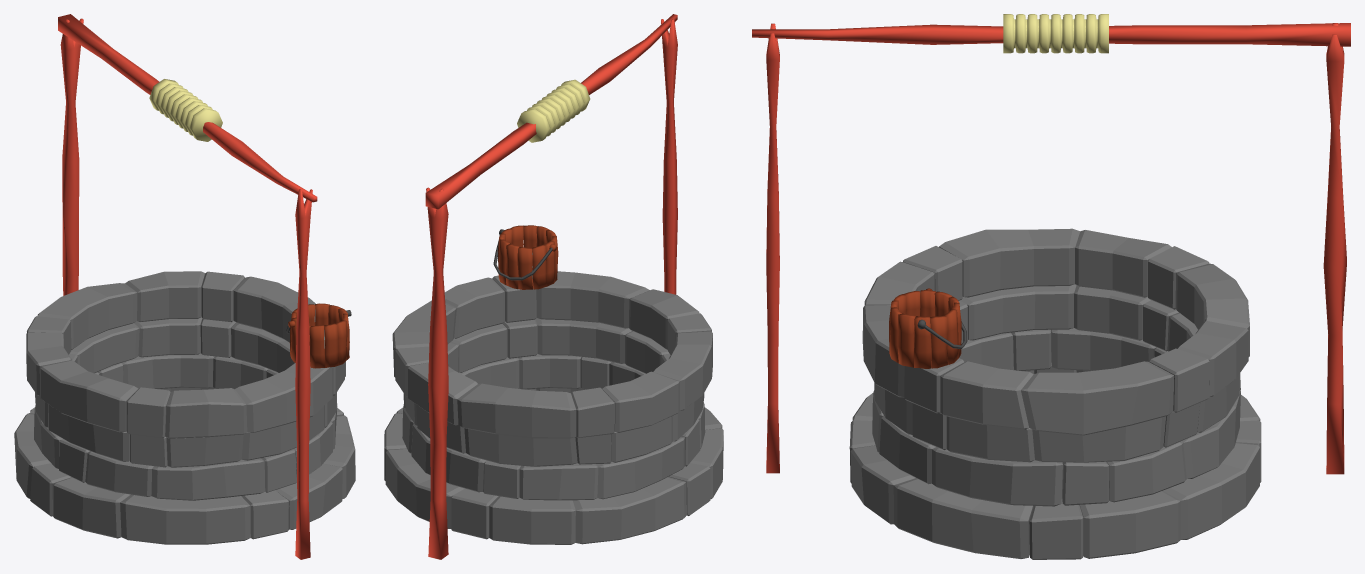
Rendered from well.fbx.
3 renders of one model, left to right at view 1: azimuth 30°, elevation 25°; view 2: azimuth 150°, elevation 25°; view 3: azimuth 270°, elevation 25°, orthographic. The views are drawn at different scales.
Visible parts, largest first — view 1: Well; view 2: Well; view 3: Well.
Boxes of the visible parts, box(x1,y1,x2,y2) form: Well: box(14, 14, 355, 559); Well: box(384, 14, 723, 559); Well: box(752, 14, 1350, 559).
Bounding box in the file's own units: 1240 × 1526 × 1801.
